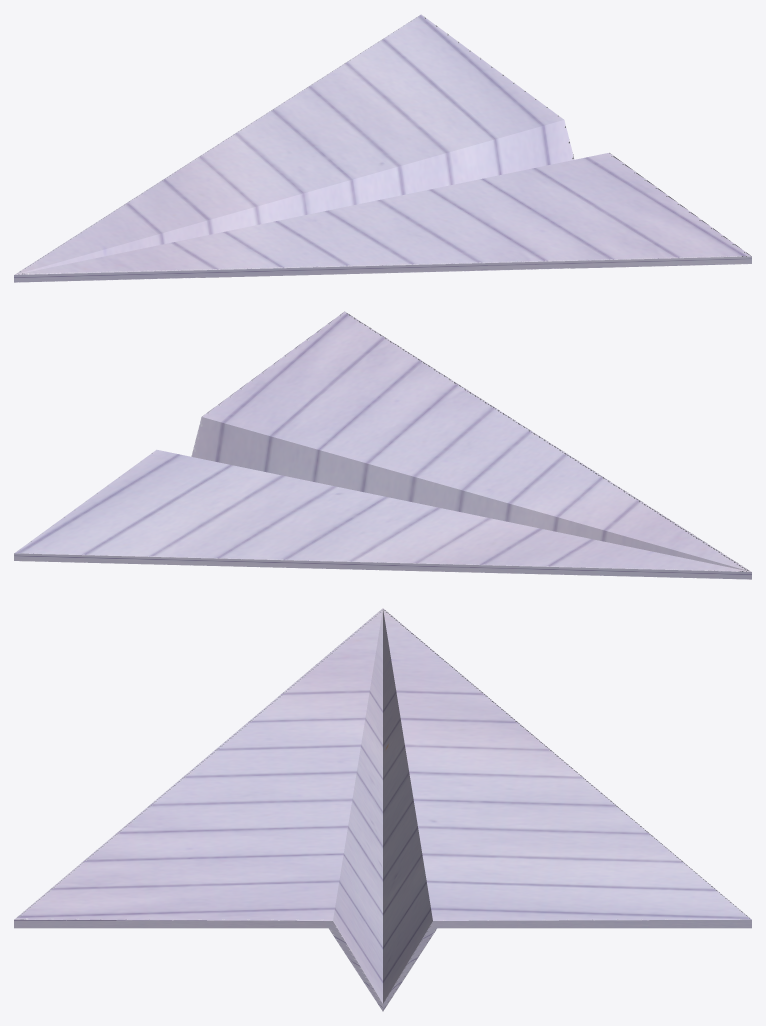
File: Paperplane_purple.FBX
3 views of the same model, one above another, from view 1: azimuth 30°, elevation 25°; view 2: azimuth 150°, elevation 25°; view 3: azimuth 270°, elevation 25° (orthographic). The views are drawn at different scales.
Parts seen in each view (by area): view 1: Paperplane_purple; view 2: Paperplane_purple; view 3: Paperplane_purple.
Part boxes in pixels (box(x1,y1,x2,y2)): Paperplane_purple: box(14, 14, 751, 282); Paperplane_purple: box(14, 311, 751, 579); Paperplane_purple: box(14, 608, 751, 1011).
Size of the model in its own units: 8.22 by 1.13 by 8.21.
1 material, 1 textured.
